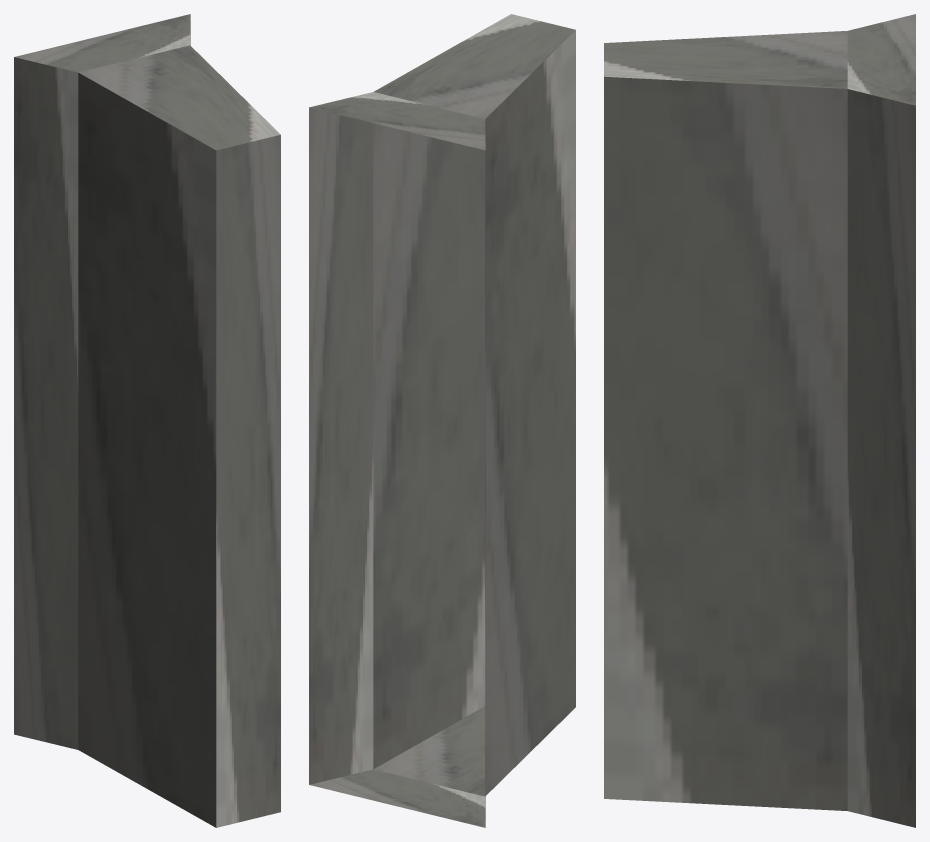
File: pz_native_street_decoration_01_29.obj
The picture shows the model from 3 angles, left to right: view 1: azimuth 30°, elevation 25°; view 2: azimuth 150°, elevation 25°; view 3: azimuth 270°, elevation 25°; orthographic projection. The views are drawn at different scales.
Visible parts, largest first — view 1: pz_native_street_decoration_01_29; view 2: pz_native_street_decoration_01_29; view 3: pz_native_street_decoration_01_29.
Boxes of the visible parts, x1=… form: pz_native_street_decoration_01_29: x1=14, y1=14, x2=280, y2=827; pz_native_street_decoration_01_29: x1=309, y1=14, x2=575, y2=827; pz_native_street_decoration_01_29: x1=604, y1=14, x2=915, y2=827.
Bounding box in the file's own units: 0.298 × 1.09 × 0.4276.
1 material, 1 textured.
